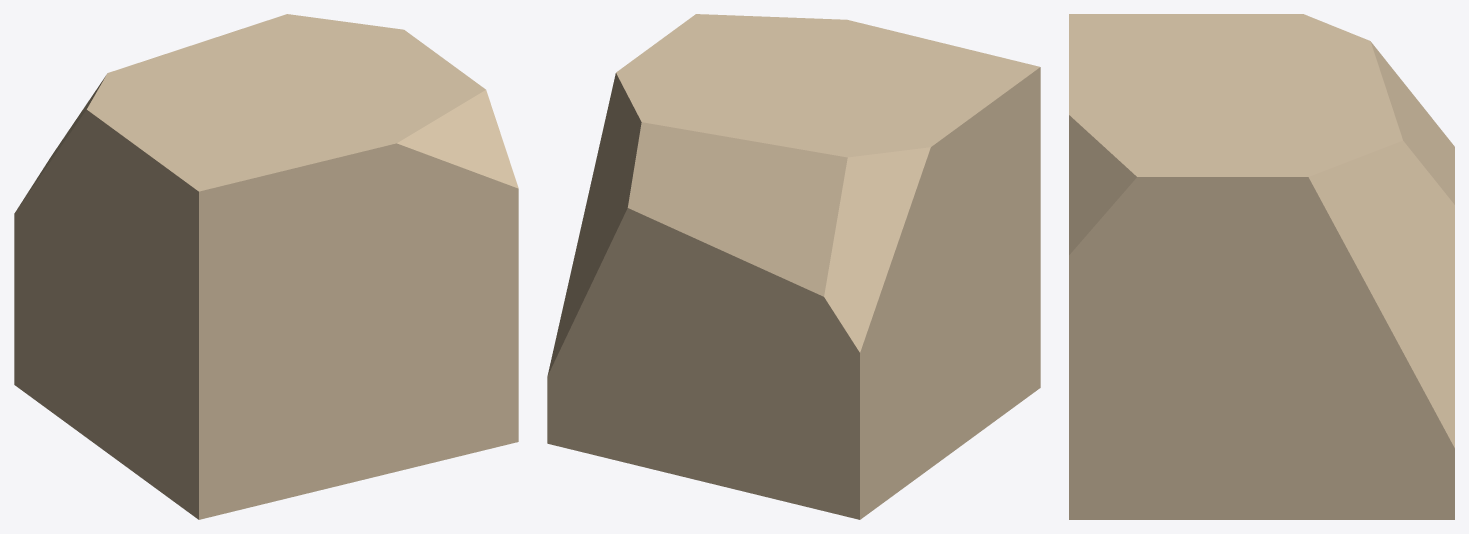
Rendered from SM_Env_Pebble_07.fbx.
3 renders of one model, left to right at view 1: azimuth 30°, elevation 25°; view 2: azimuth 150°, elevation 25°; view 3: azimuth 270°, elevation 25°, orthographic. The views are drawn at different scales.
Parts seen in each view (by area): view 1: SM_Env_Pebble_07; view 2: SM_Env_Pebble_07; view 3: SM_Env_Pebble_07.
Part boxes in pixels (x1,y1,x2,y2): SM_Env_Pebble_07: (14, 14, 518, 519); SM_Env_Pebble_07: (547, 14, 1040, 519); SM_Env_Pebble_07: (1069, 14, 1454, 519).
Size of the model in its own units: 0.00107 by 0.00105 by 0.00107.
1 material, 1 textured.
